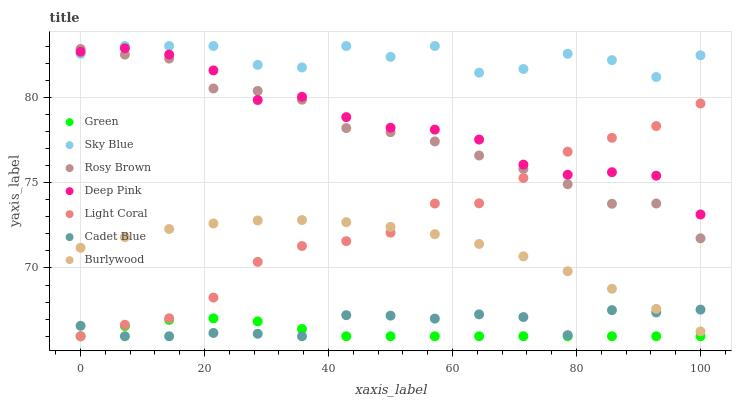axis: (56, 346, 736, 356), (43, 29, 55, 346)
legend: (51, 112, 158, 273)
point: (296, 59, 313, 74), (561, 47, 575, 61), (433, 197, 446, 210), (207, 311, 221, 323), (694, 205, 706, 218), (164, 225, 178, 236), (122, 318, 133, 332), (341, 328, 353, 339), (342, 41, 352, 54), (76, 322, 89, 332), (427, 125, 441, 134), (696, 304, 706, 316), (695, 99, 707, 109), (519, 250, 528, 263), (210, 43, 221, 53), (383, 312, 394, 322), (164, 331, 175, 341), (253, 330, 264, 340), (607, 284, 618, 294), (167, 49, 176, 61), (384, 222, 394, 232), (518, 313, 528, 323), (76, 46, 87, 55), (345, 112, 353, 124), (474, 69, 486, 77), (652, 330, 661, 340), (298, 334, 308, 343), (606, 334, 616, 343), (696, 51, 707, 59), (563, 267, 574, 275), (519, 332, 527, 343), (430, 333, 441, 341), (254, 257, 266, 264), (299, 92, 307, 102), (386, 129, 396, 137), (564, 143, 571, 154), (477, 201, 486, 209), (608, 199, 618, 206), (652, 122, 661, 129), (253, 317, 262, 324), (520, 160, 528, 167), (256, 218, 263, 226), (607, 54, 613, 63), (210, 294, 219, 300), (343, 221, 351, 227), (254, 87, 262, 92)
